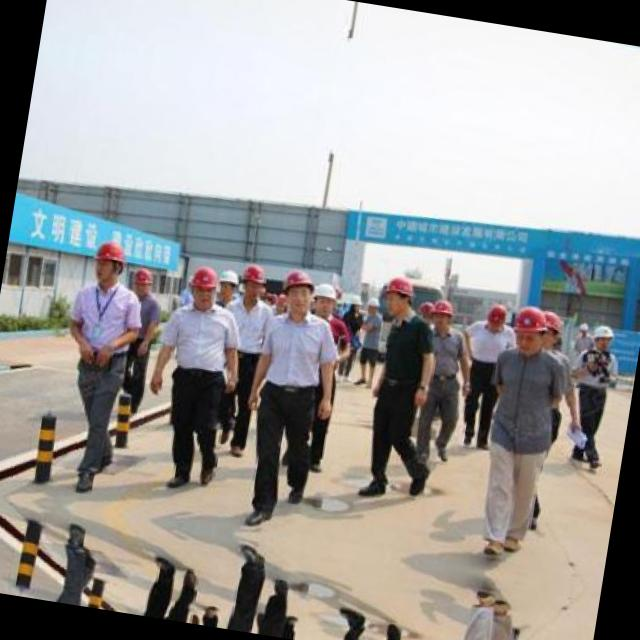helmet: (89, 236, 130, 288), (508, 304, 550, 352), (381, 270, 420, 318), (282, 264, 318, 312), (186, 261, 222, 308), (234, 259, 269, 303), (308, 278, 338, 320), (538, 310, 566, 350), (428, 296, 456, 330), (482, 300, 510, 334), (590, 320, 618, 353), (216, 266, 240, 304), (130, 263, 156, 296), (412, 298, 435, 330), (362, 293, 382, 320), (347, 291, 364, 314)
